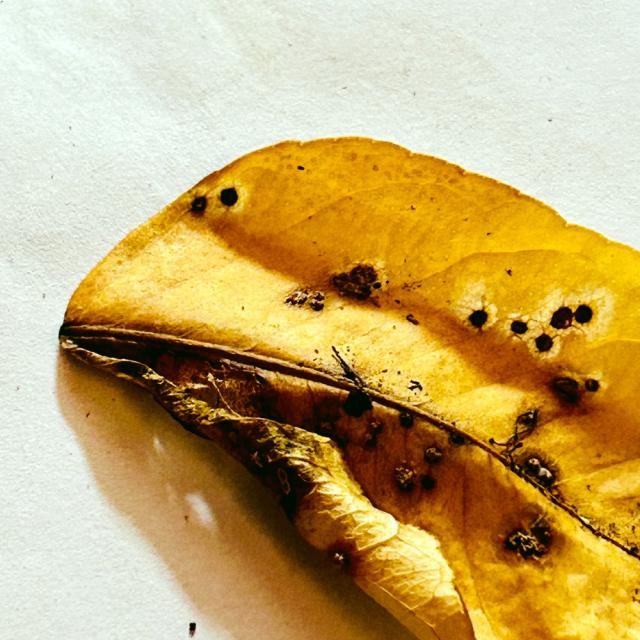DryLeaf_Lemon: (60, 137, 639, 639)
